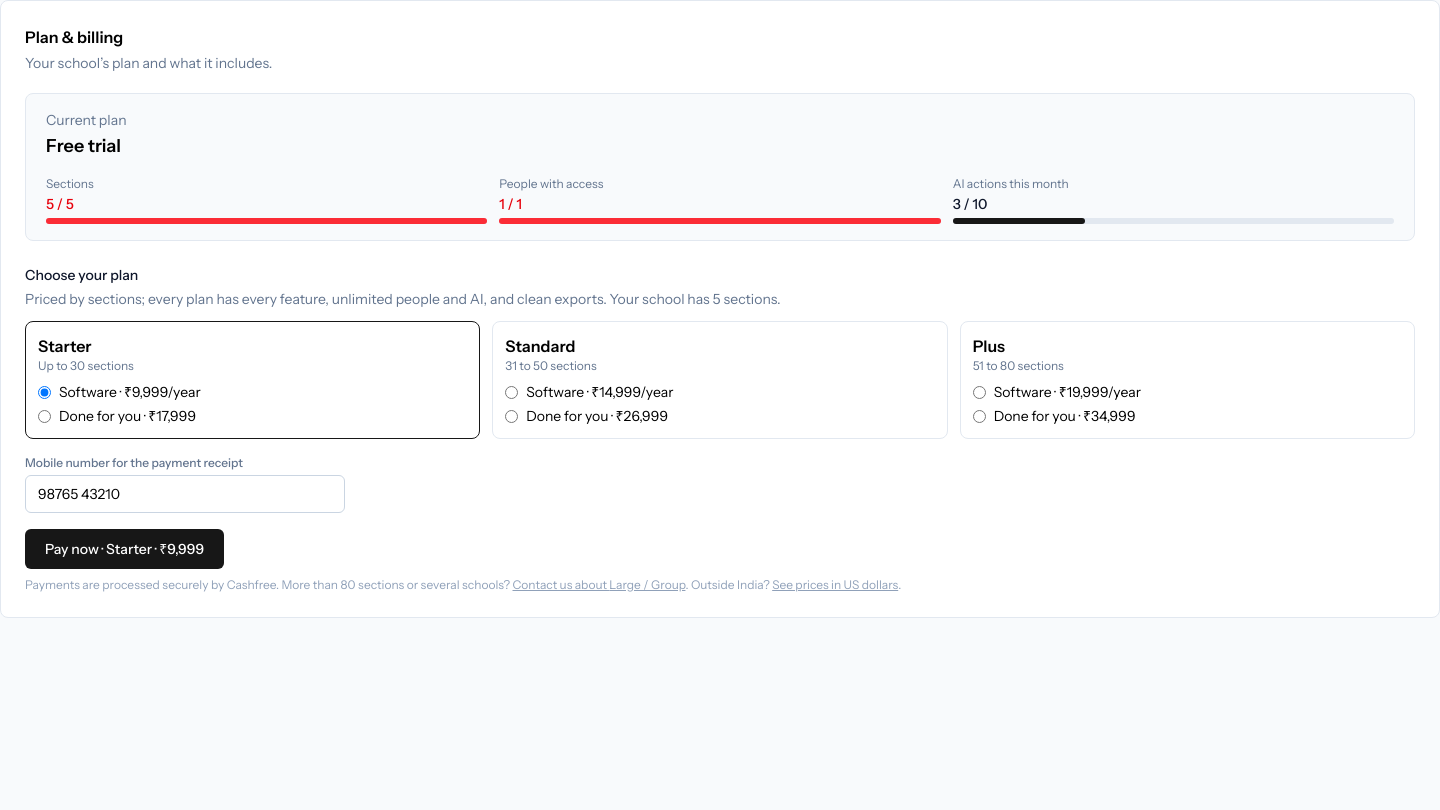
Test case: BillingSection › shows the server error if the order cannot be created
Click the button "Pay now · Starter · ₹9,999". click: {"x": 125, "y": 549}
box: 25,529 -> 224,569
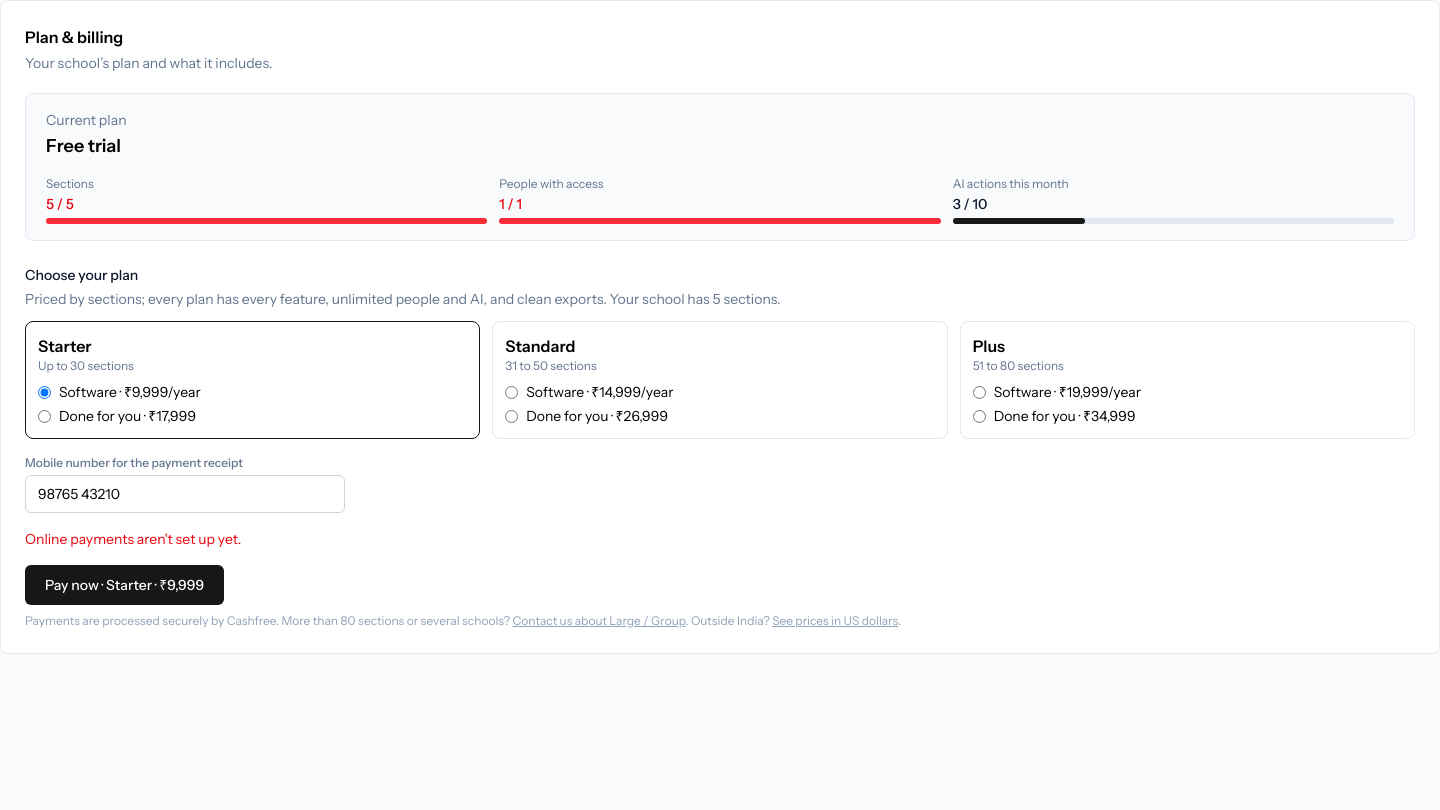
Expected: the text "Online payments aren't set up yet." is shown, 25,530 -> 241,548
